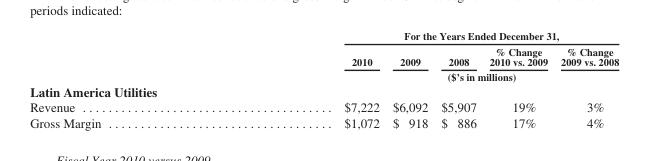table: (29, 29, 618, 129)
table column: (29, 29, 222, 129), (222, 29, 385, 129), (482, 29, 553, 129), (553, 29, 618, 129), (433, 29, 482, 129), (385, 29, 433, 129)
table column header: (29, 29, 618, 83)
table projected row header: (29, 83, 618, 99)
table row: (29, 43, 618, 68), (29, 83, 618, 99), (29, 68, 618, 83), (29, 99, 618, 114), (29, 114, 618, 129), (29, 29, 618, 43)
table spanning cell: (222, 68, 618, 83), (222, 29, 618, 43)
